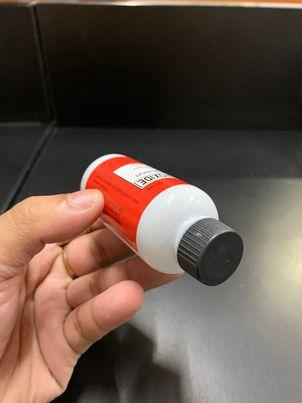-Bottle-: (81, 153, 244, 287)
